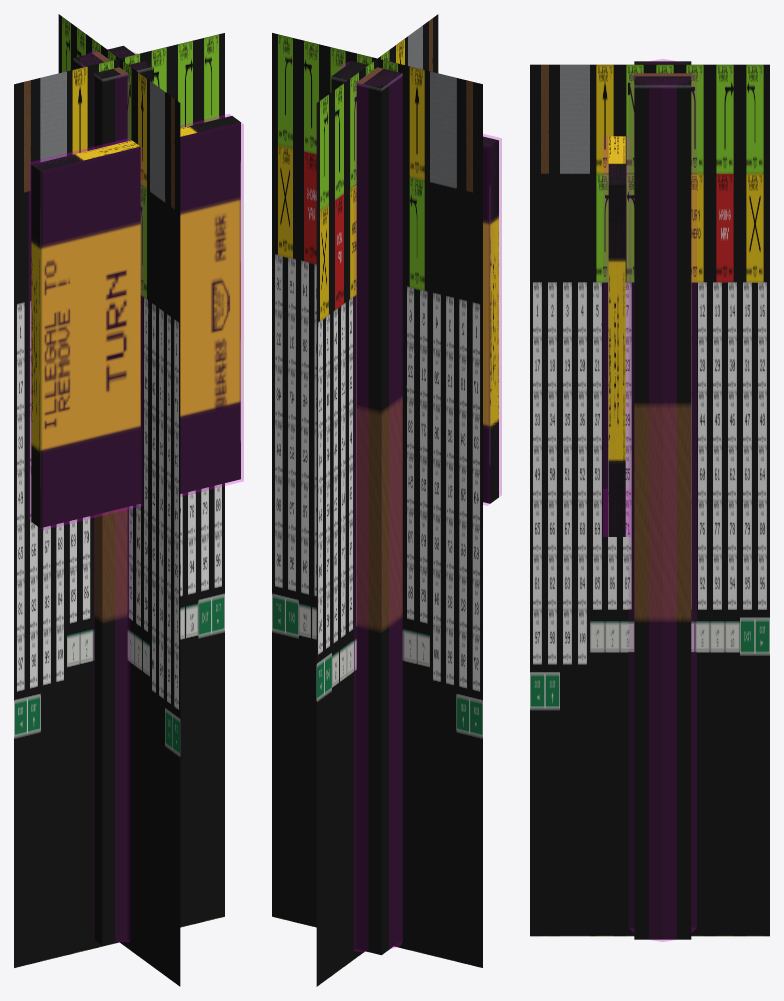
The model's file is turn_ahead.dae.
3 renders of one model, left to right at view 1: azimuth 30°, elevation 25°; view 2: azimuth 150°, elevation 25°; view 3: azimuth 270°, elevation 25°, orthographic.
Parts seen in each view (by area): view 1: turn_ahead_a50, turn_ahead_a800, Colmesh_sign-1, Colmesh_post-1, turn_ahead_a200; view 2: turn_ahead_a50, turn_ahead_a800, Colmesh_post-1, turn_ahead_a200, Colmesh_sign-1; view 3: turn_ahead_a50, turn_ahead_a800, Colmesh_post-1, Colmesh_sign-1.
Boxes of the visible parts, <box> form: turn_ahead_a50: <box>14,14,224,986</box>; turn_ahead_a800: <box>31,45,240,945</box>; Colmesh_sign-1: <box>29,114,243,529</box>; Colmesh_post-1: <box>81,49,138,941</box>; turn_ahead_a200: <box>94,52,151,944</box>; turn_ahead_a50: <box>272,14,482,986</box>; turn_ahead_a800: <box>331,61,498,955</box>; Colmesh_post-1: <box>339,59,402,951</box>; turn_ahead_a200: <box>349,63,402,950</box>; Colmesh_sign-1: <box>483,134,501,505</box>; turn_ahead_a50: <box>530,64,769,936</box>; turn_ahead_a800: <box>608,61,691,939</box>; Colmesh_post-1: <box>629,59,696,941</box>; Colmesh_sign-1: <box>603,137,630,536</box>.
Bounding box in the file's own units: 0.42 × 0.42 × 1.68.
Materials: 2 (1 with a texture image).
